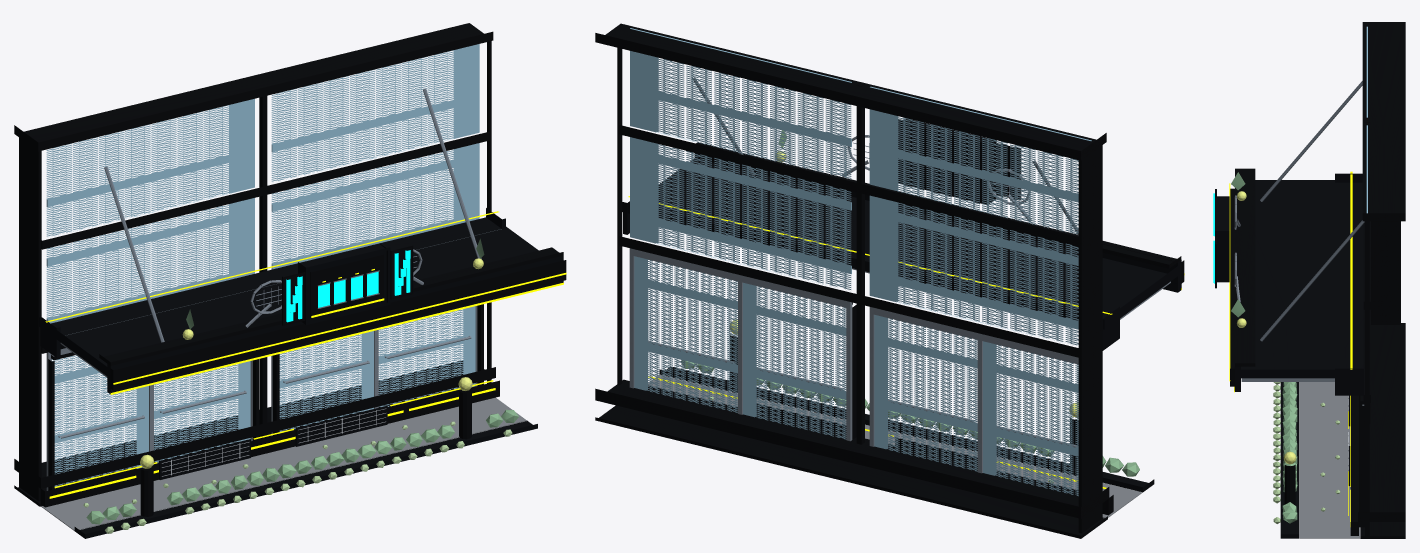
File: tt_secondary_entrance_n.glb
3 views of the same model, side by side, from view 1: azimuth 30°, elevation 25°; view 2: azimuth 150°, elevation 25°; view 3: azimuth 270°, elevation 25° (orthographic). The views are drawn at different scales.
Visible parts, largest first — view 1: Frame, Upper_Scissor_11, Upper_Scissor_01, Canopy, Upper_Scissor_10, Upper_Scissor_00, Fascia_Gunmetal, Threshold_Mat, Door_Scissor_00, Door_Scissor_11, Door_Scissor_01, Door_Scissor_10 (+19 smaller); view 2: Frame, Canopy, Upper_Scissor_10, Upper_Scissor_00, Upper_Scissor_11, Upper_Scissor_01, Door_Scissor_10, Door_Scissor_01, Door_Scissor_11, Door_Scissor_00, Door_Stiles, Scoreboard (+7 smaller); view 3: Frame, Canopy, Threshold_Mat, Fascia_Gunmetal, Hedge_Edge, Terrace_Kerb, Scoreboard, Tie_Rods, Court_Line_LED, Hedge_Edge_Light, Ball_Bollards, Canopy_Soffit (+2 smaller).
Part boxes in pixels (x1,y1,x2,y2): Frame: (14,23,499,507); Upper_Scissor_11: (271,44,479,181); Upper_Scissor_01: (46,98,254,236); Canopy: (39,208,538,375); Upper_Scissor_10: (271,143,479,269); Upper_Scissor_00: (46,198,254,323); Fascia_Gunmetal: (99,247,566,390); Threshold_Mat: (41,397,527,530); Door_Scissor_00: (52,355,148,486); Door_Scissor_11: (378,306,475,406); Door_Scissor_01: (154,361,250,463); Door_Scissor_10: (279,331,373,431); Frame: (595,23,1113,538); Canopy: (622,159,1177,350); Upper_Scissor_10: (630,137,851,289); Upper_Scissor_00: (869,195,1078,345); Upper_Scissor_11: (630,28,851,178); Upper_Scissor_01: (869,86,1091,233); Door_Scissor_10: (743,282,846,439); Door_Scissor_01: (874,315,977,471); Door_Scissor_11: (634,256,737,412); Door_Scissor_00: (983,341,1078,496); Door_Stiles: (629,248,1078,473); Scoreboard: (898,119,996,204); Frame: (1350,22,1405,538); Canopy: (1240,173,1363,395); Threshold_Mat: (1299,382,1359,538); Fascia_Gunmetal: (1230,168,1255,386); Hedge_Edge: (1282,382,1297,523); Terrace_Kerb: (1280,382,1299,538); Scoreboard: (1215,196,1229,282); Tie_Rods: (1260,81,1364,341); Court_Line_LED: (1229,171,1352,392); Hedge_Edge_Light: (1273,382,1280,523); Ball_Bollards: (1284,464,1295,505); Canopy_Soffit: (1241,378,1334,381).
Size of what is drawn, in the model's own units: 8 by 6.1 by 3.26.
12 materials, 6 textured.
